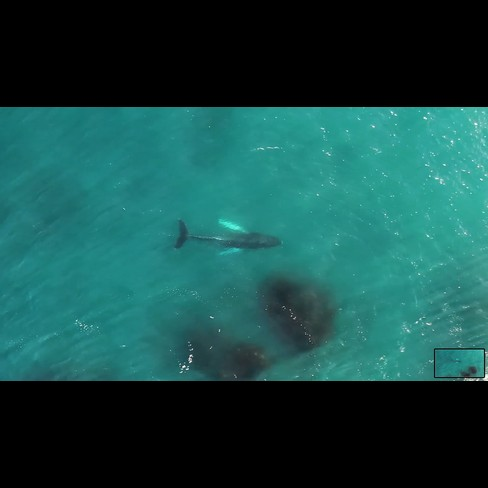hump: (163, 204, 287, 267)
